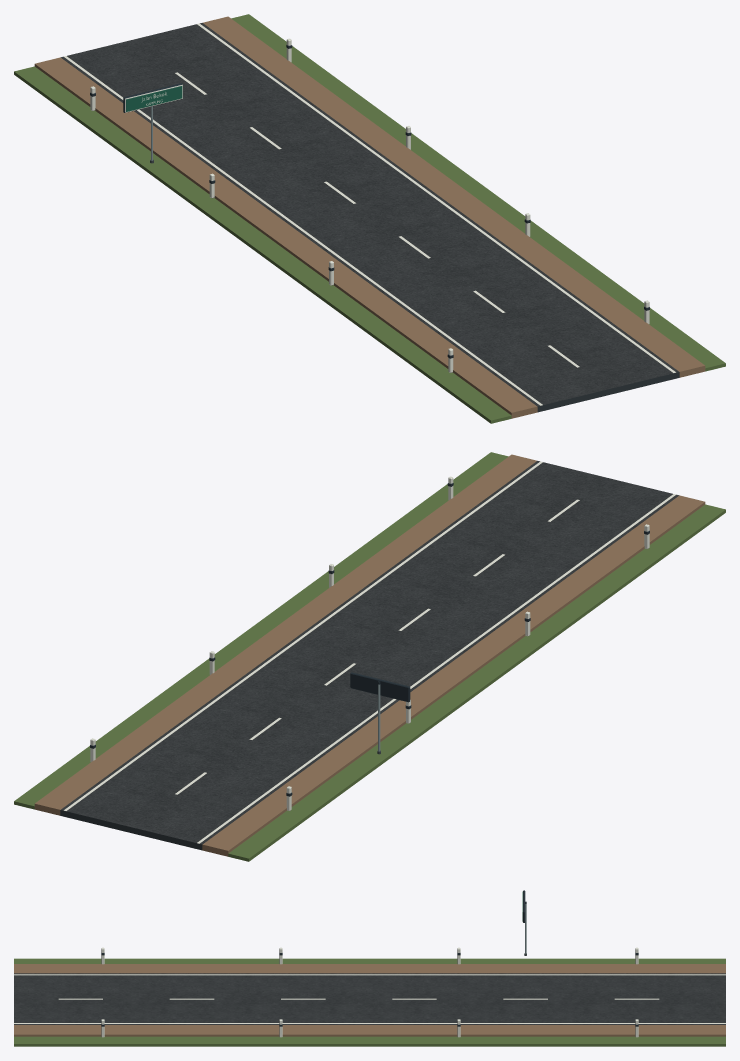
3 renders of one model, top to bottom at view 1: azimuth 30°, elevation 25°; view 2: azimuth 150°, elevation 25°; view 3: azimuth 270°, elevation 25°, orthographic. The views are drawn at different scales.
Parts seen in each view (by area): view 1: Road Deck, Gravel Shoulders, Grass Verges, Road Markings, Local Street Signs, White Delineator Posts; view 2: Road Deck, Gravel Shoulders, Grass Verges, Road Markings, Local Street Signs, White Delineator Posts; view 3: Road Deck, Gravel Shoulders, Grass Verges, Road Markings, White Delineator Posts.
Part boxes in pixels (x1,y1,x2,y2): Road Deck: [61, 23, 679, 412]; Gravel Shoulders: [34, 16, 705, 418]; Grass Verges: [14, 14, 725, 423]; Road Markings: [63, 23, 675, 405]; Local Street Signs: [123, 83, 182, 163]; White Delineator Posts: [90, 38, 649, 372]; Road Deck: [60, 461, 678, 850]; Gravel Shoulders: [34, 454, 705, 856]; Grass Verges: [14, 452, 725, 861]; Road Markings: [64, 461, 676, 843]; Local Street Signs: [350, 672, 410, 754]; White Delineator Posts: [90, 476, 649, 810]; Road Deck: [14, 973, 725, 1024]; Gravel Shoulders: [14, 964, 725, 1036]; Grass Verges: [14, 958, 725, 1046]; Road Markings: [14, 974, 725, 1023]; White Delineator Posts: [101, 947, 638, 1037].
Size of the model in its own units: 10.09 by 3.04 by 32.
Materials: 10 (1 with a texture image).
